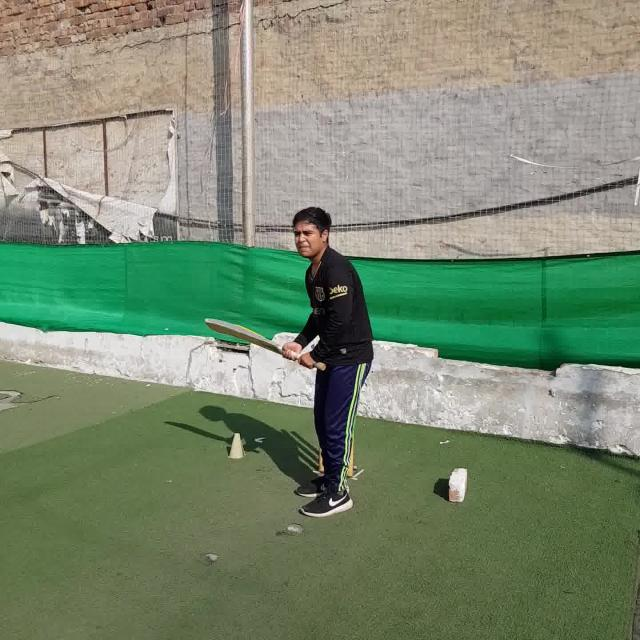bat: (204, 317, 326, 370)
